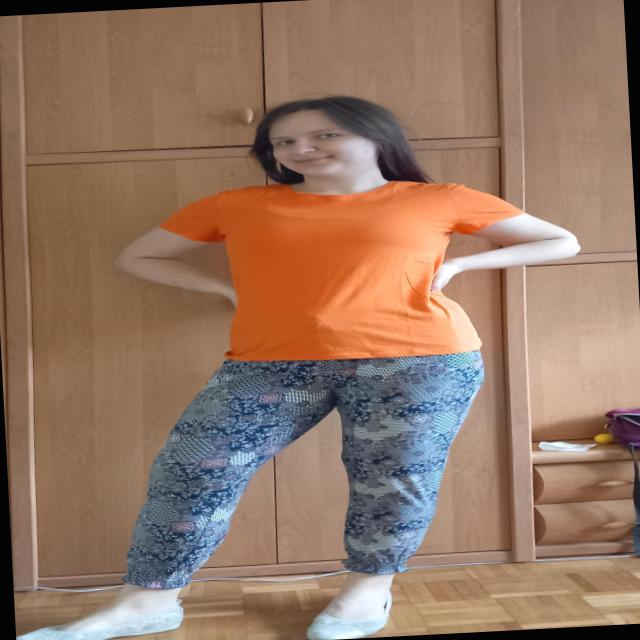Tshirt: (155, 171, 532, 368)
pants: (108, 347, 496, 590)
